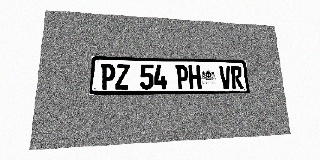4: (154, 65, 167, 89)
5: (140, 64, 154, 89)
H: (188, 65, 201, 89)
P: (100, 63, 115, 89), (176, 65, 189, 89)
R: (230, 66, 243, 89)
V: (219, 66, 232, 89)
Z: (115, 64, 130, 89)
